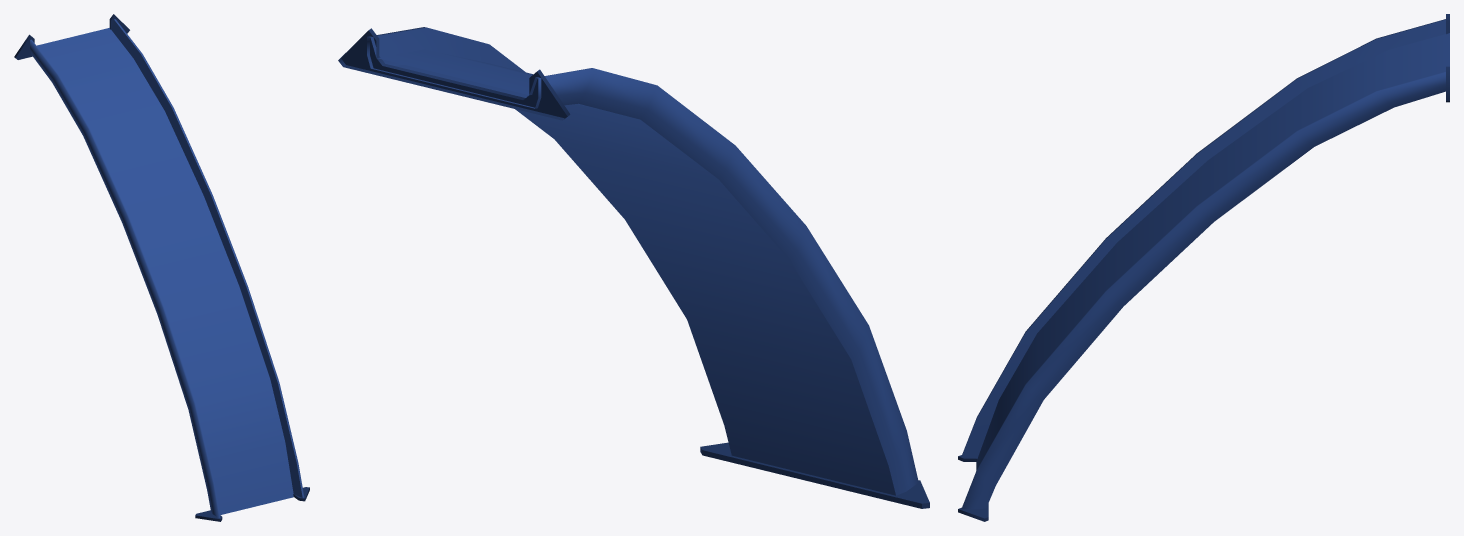
File: RacetrackRampUp2.fbx
3 renders of one model, left to right at view 1: azimuth 30°, elevation 25°; view 2: azimuth 150°, elevation 25°; view 3: azimuth 270°, elevation 25°, orthographic. The views are drawn at different scales.
Parts seen in each view (by area): view 1: RacetrackStraightLong.021; view 2: RacetrackStraightLong.021; view 3: RacetrackStraightLong.021.
Boxes of the visible parts, <box> form: RacetrackStraightLong.021: <box>14,14,309,521</box>; RacetrackStraightLong.021: <box>338,27,929,508</box>; RacetrackStraightLong.021: <box>958,14,1449,521</box>.
Size of the model in its own units: 3604 by 10419 by 10419.
